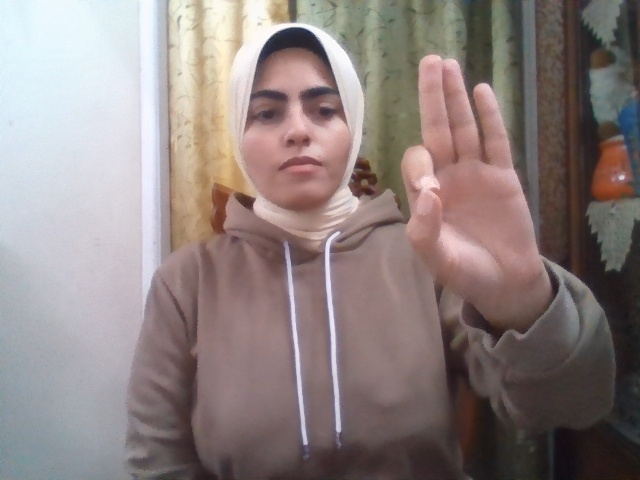F: (400, 55, 545, 304)
